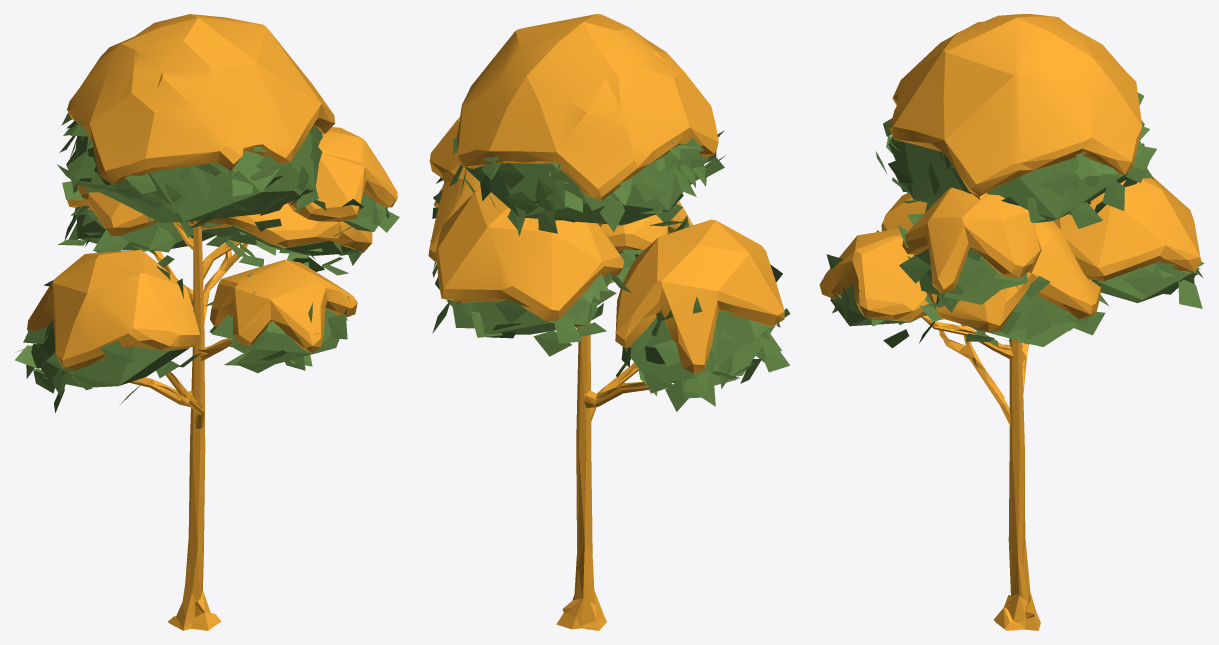
Rendered from SM_Tree_Beech_Mature_A_Snow.fbx.
3 views of the same model, side by side, from view 1: azimuth 30°, elevation 25°; view 2: azimuth 150°, elevation 25°; view 3: azimuth 270°, elevation 25° (orthographic).
Visible parts, largest first — view 1: tree-beech-mature-a-snow; view 2: tree-beech-mature-a-snow; view 3: tree-beech-mature-a-snow.
Boxes of the visible parts, x1,y1,x2,y2 form: tree-beech-mature-a-snow: (15,14,399,630); tree-beech-mature-a-snow: (428,14,790,630); tree-beech-mature-a-snow: (819,14,1204,630).
Size of the model in its own units: 7.29 by 12.45 by 7.18.
